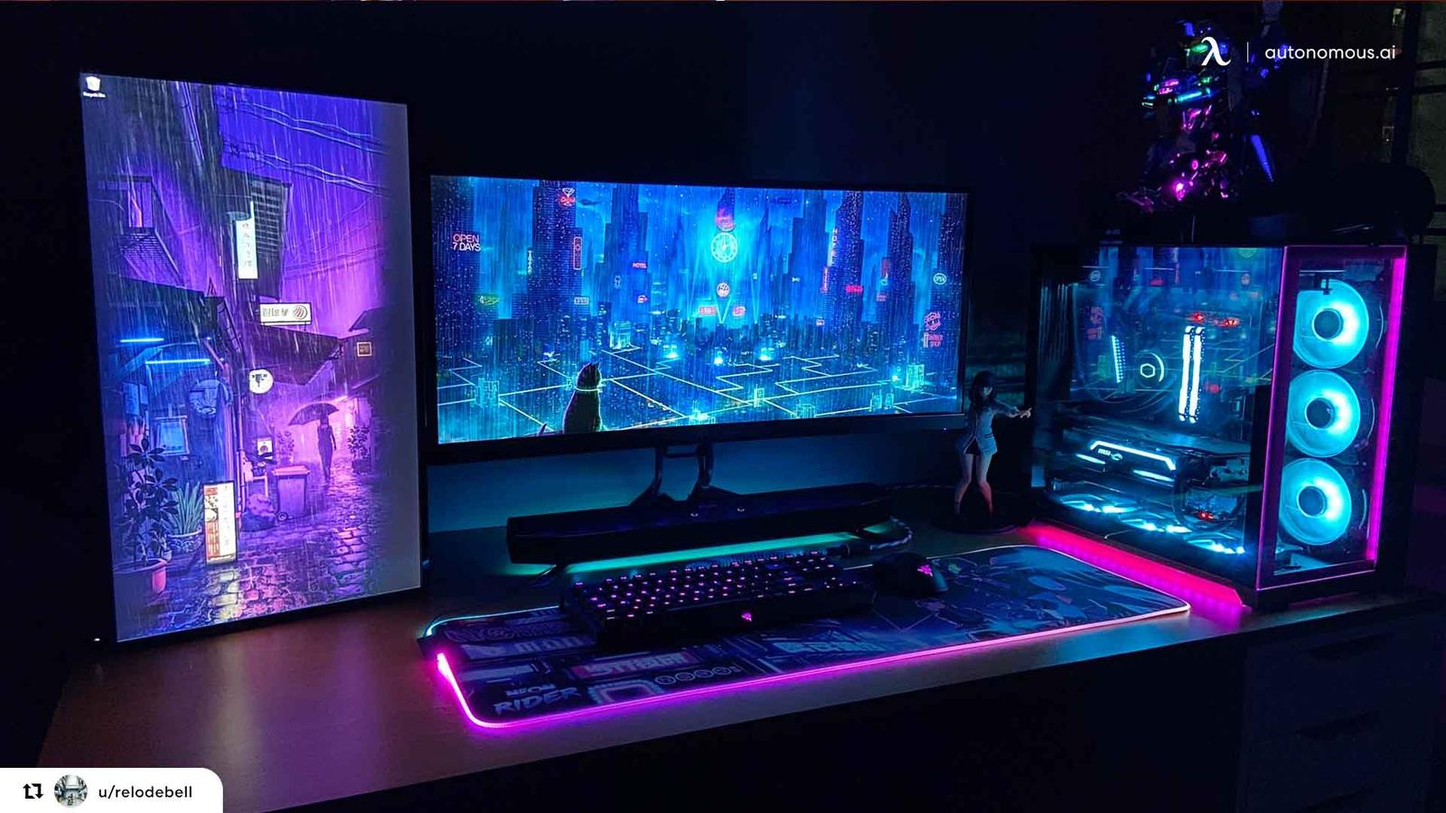keyboard: (535, 531, 883, 647)
monitor: (59, 39, 440, 676), (399, 167, 994, 471)
mouse: (847, 536, 970, 606)
pc: (1017, 212, 1444, 642)
